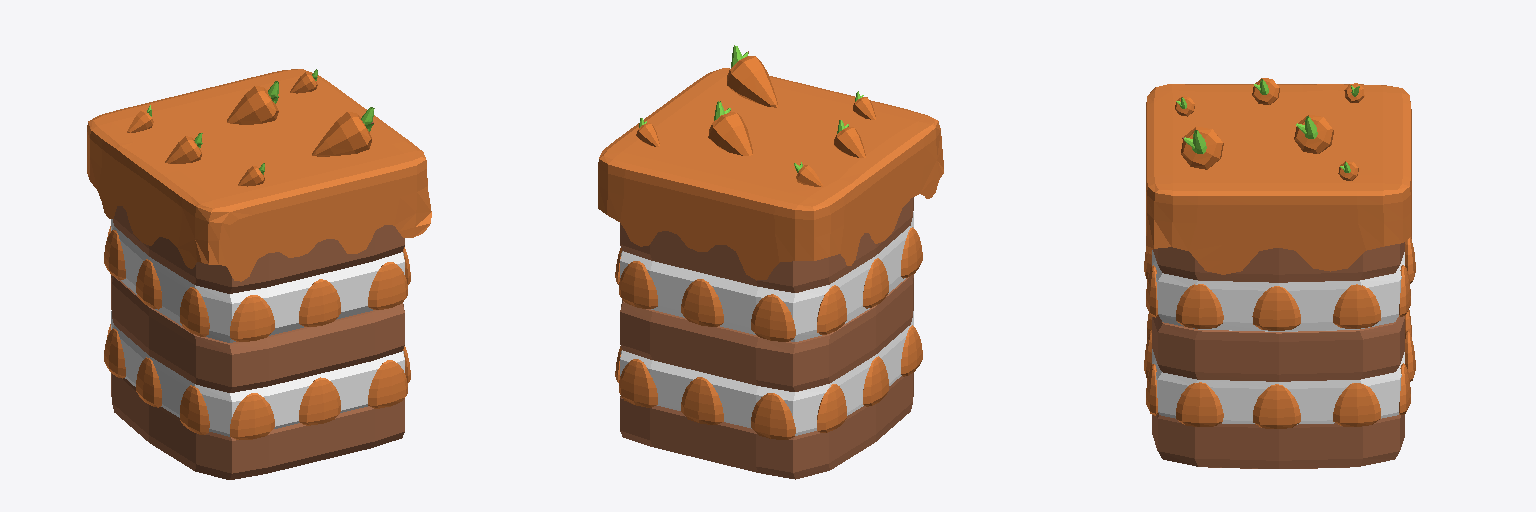
3 views of the same model, side by side, from view 1: azimuth 30°, elevation 25°; view 2: azimuth 150°, elevation 25°; view 3: azimuth 270°, elevation 25° (orthographic).
Visible parts, largest first — view 1: Cube.040; view 2: Cube.040; view 3: Cube.040.
Part boxes in pixels (left/top/right/bottom): Cube.040: left=87, top=69, right=431, bottom=479; Cube.040: left=598, top=45, right=943, bottom=479; Cube.040: left=1144, top=78, right=1415, bottom=468.
Size of the model in its own units: 2.1 by 2.86 by 2.15.
1 materials, 1 textured.